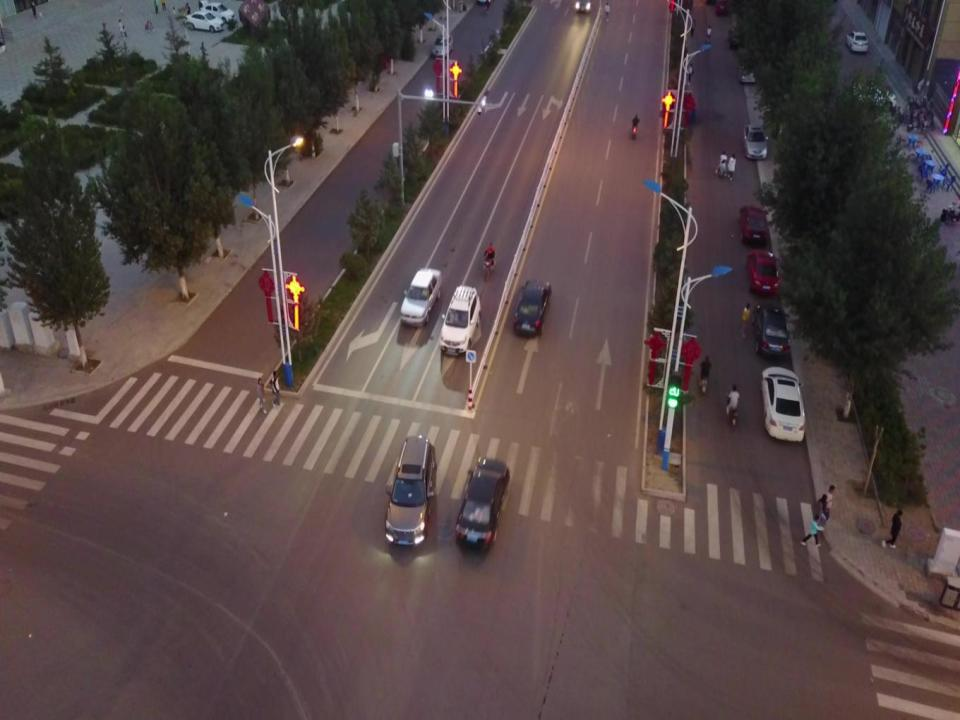car: (454, 454, 510, 552), (761, 367, 805, 441), (399, 268, 442, 328), (513, 278, 552, 338), (750, 303, 790, 360), (745, 248, 781, 296), (738, 204, 770, 248), (850, 82, 896, 112), (741, 124, 768, 160), (185, 10, 224, 33), (199, 0, 235, 24), (846, 30, 868, 53), (432, 33, 452, 58), (737, 59, 756, 84), (728, 26, 745, 51), (714, 0, 730, 16), (576, 0, 592, 13)
van: (385, 435, 436, 546), (439, 285, 481, 356)
